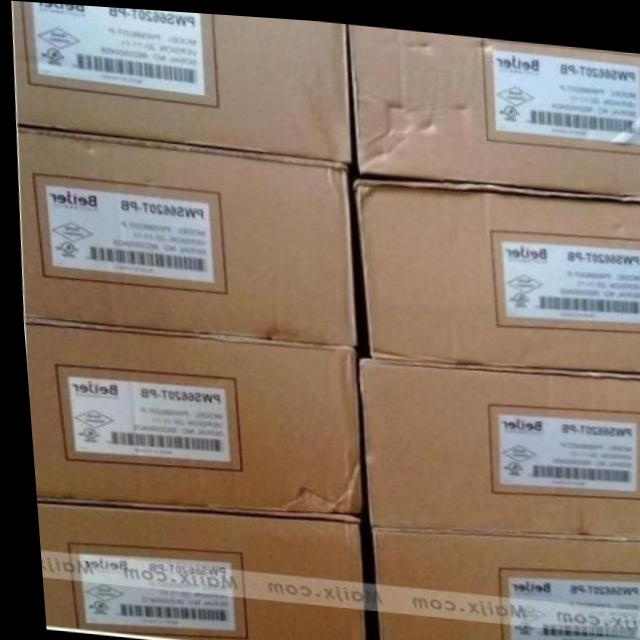box: (16, 127, 351, 342), (20, 318, 355, 508), (351, 173, 640, 363), (13, 1, 349, 158), (354, 353, 640, 531), (348, 19, 640, 187), (29, 497, 355, 640), (363, 523, 640, 640)
